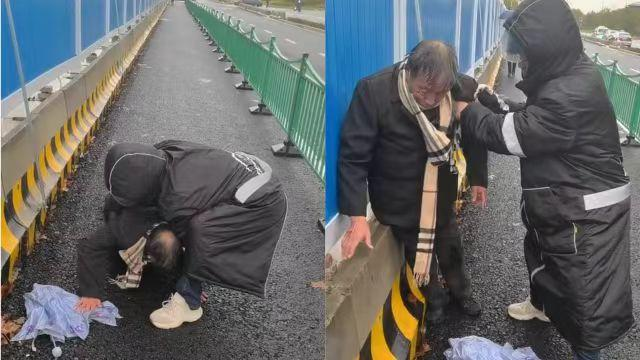bending: (129, 136, 278, 328)
up: (484, 10, 628, 356), (348, 38, 491, 324)
